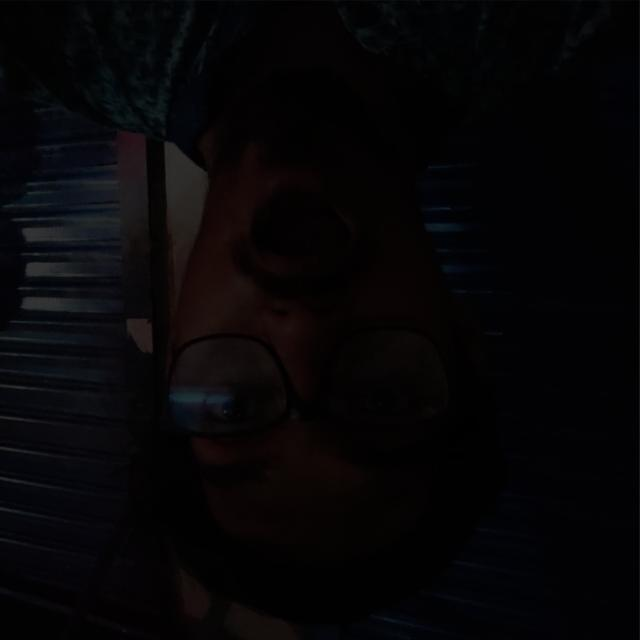Surprised: (136, 123, 485, 590)
